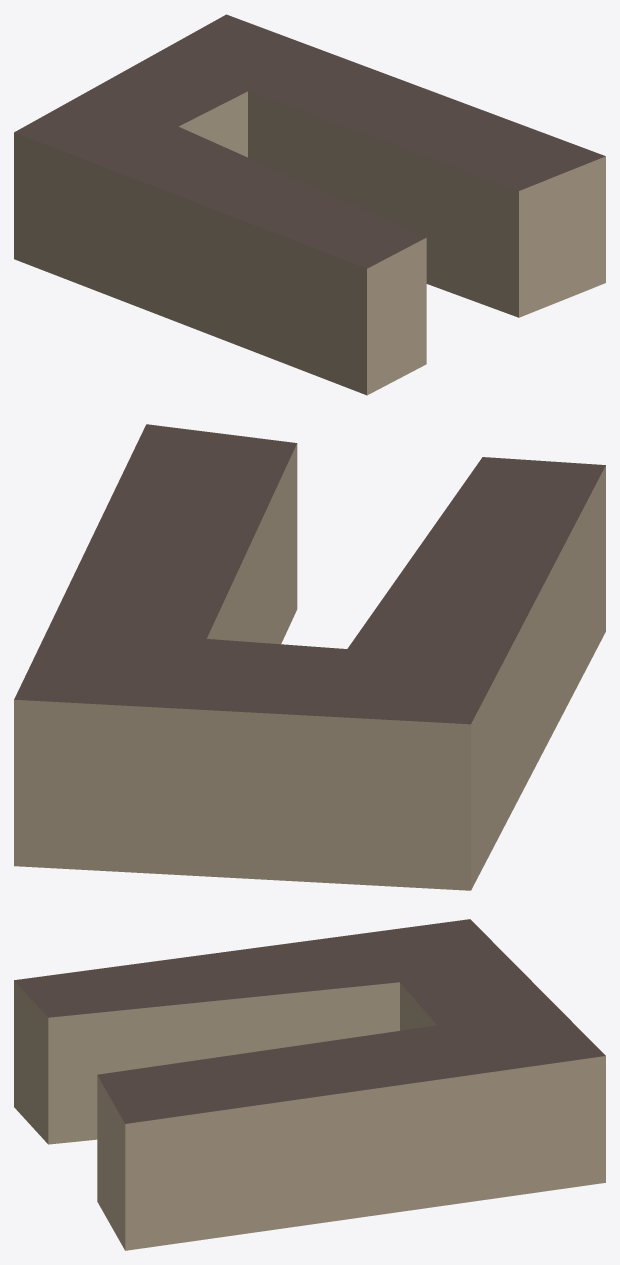
The picture shows the model from 3 angles, top to bottom: view 1: azimuth 30°, elevation 25°; view 2: azimuth 150°, elevation 25°; view 3: azimuth 270°, elevation 25°; orthographic projection. The views are drawn at different scales.
Visible parts, largest first — view 1: HP-w1512497737; view 2: HP-w1512497737; view 3: HP-w1512497737.
Boxes of the visible parts, left/top/right/bottom form: HP-w1512497737: left=14, top=14, right=605, bottom=395; HP-w1512497737: left=14, top=424, right=605, bottom=890; HP-w1512497737: left=14, top=919, right=605, bottom=1250.
Size of the model in its own units: 31.18 by 9 by 38.06.
